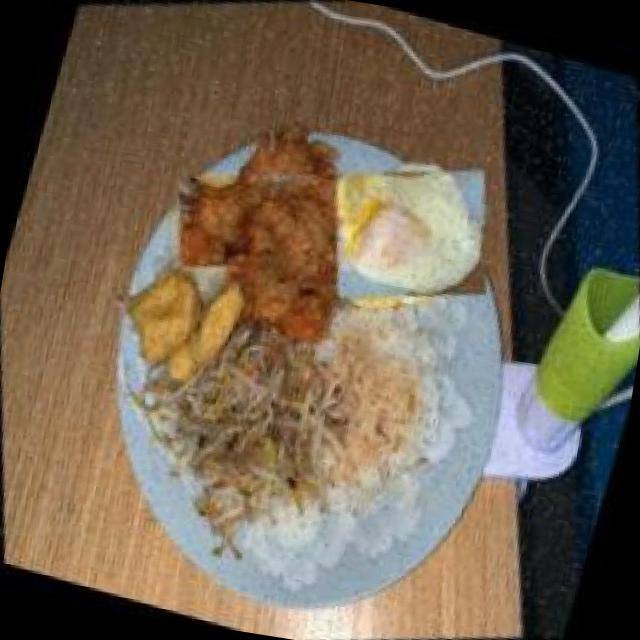chicken_nuggets: (94, 230, 280, 413)
fried_chicken: (157, 100, 420, 363)
fried_eggs: (301, 125, 518, 342)
mung_bean_sprouts: (117, 304, 366, 570)
rice: (262, 276, 479, 524)
